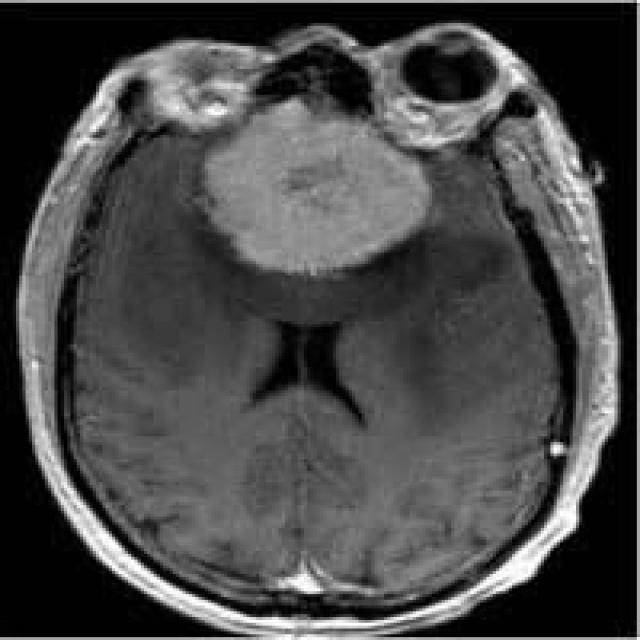Meningioma: (200, 97, 430, 276)
